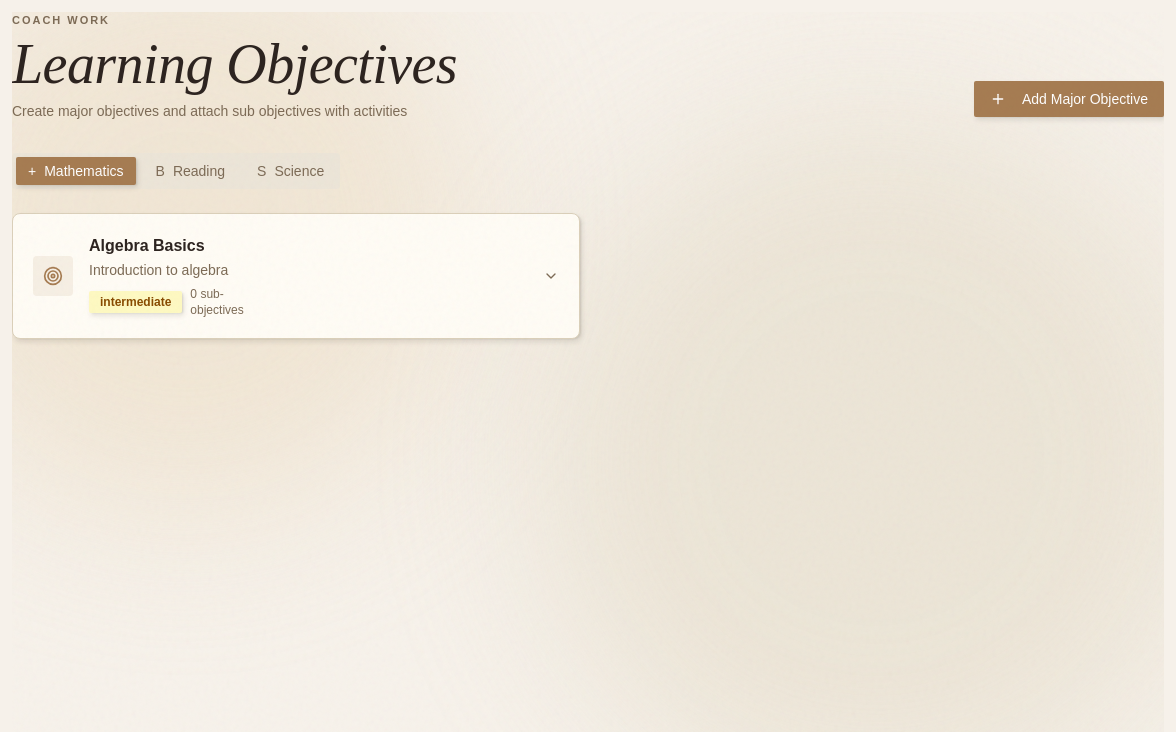
Test: ObjectivesPage › Empty state › shows empty state for sub-objectives when major has none
Expand the major to reveal the empty sub-objectives section
Click the text "Algebra Basics".
click(147, 246)  # box left=89, top=237, right=205, bottom=254
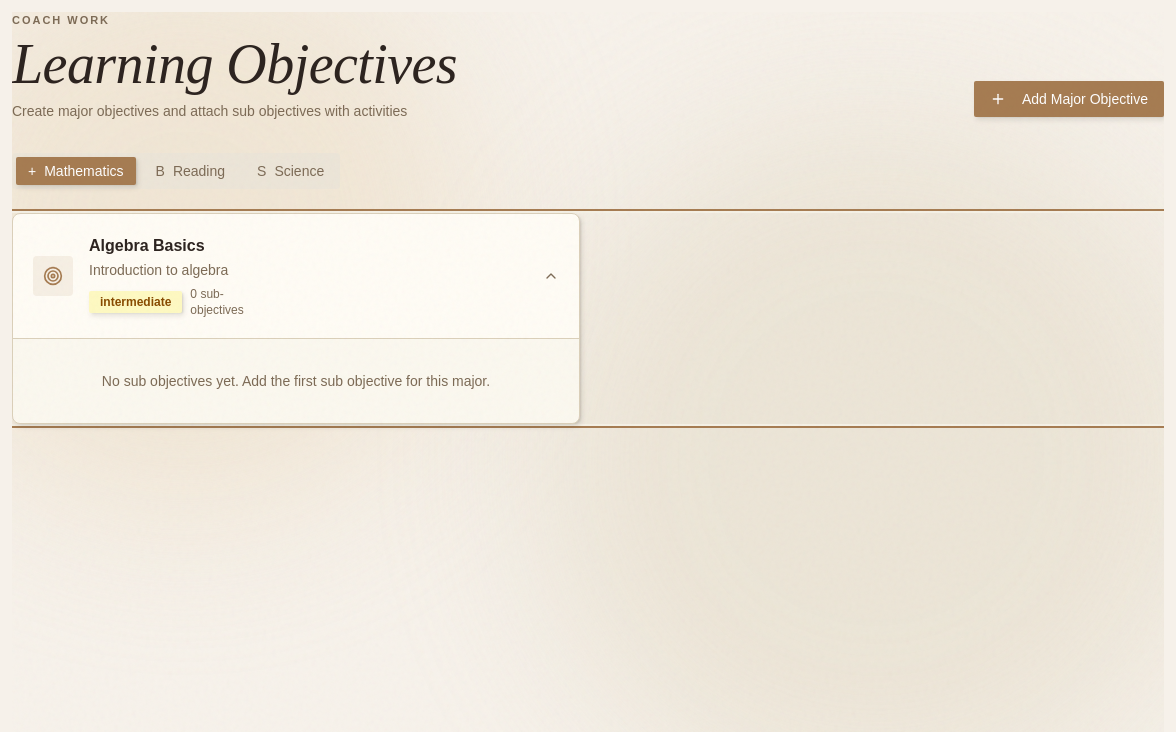
Now the text "No sub objectives yet. Add the first sub objective for this major." is shown, box left=102, top=373, right=490, bottom=389
